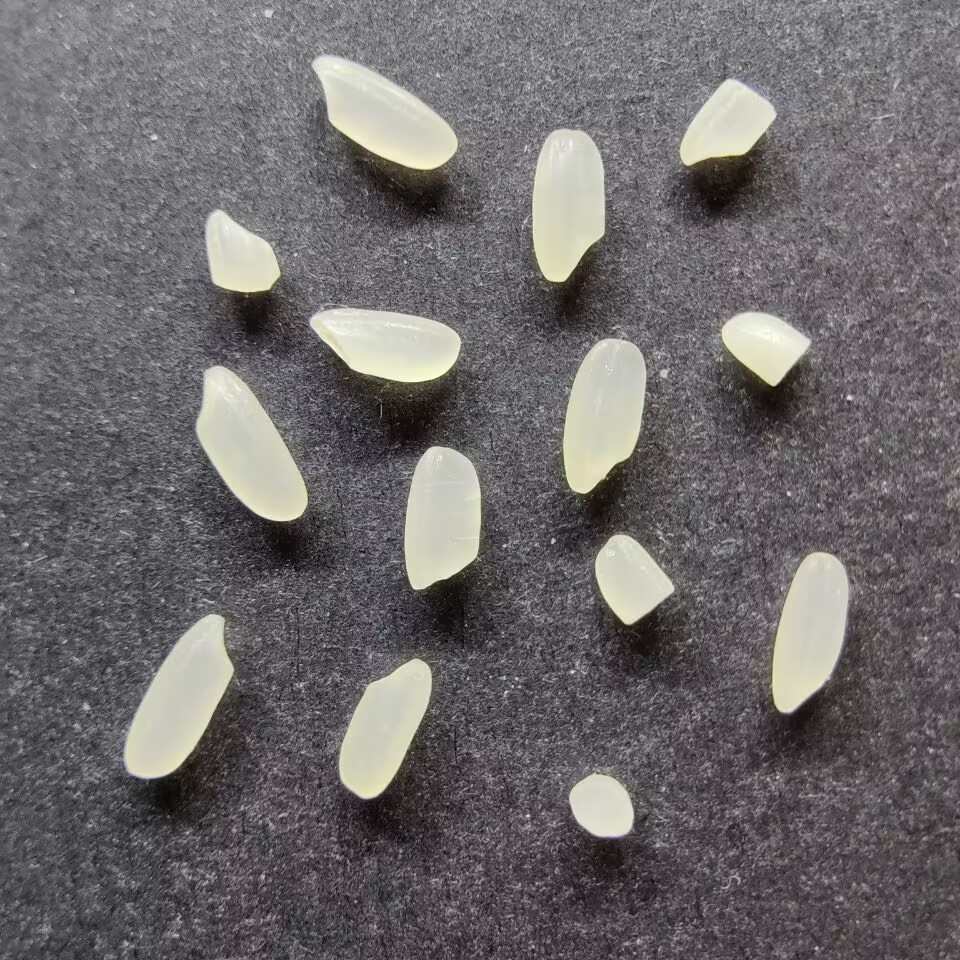broken: (678, 78, 776, 166), (593, 533, 675, 625), (720, 311, 811, 387), (204, 207, 281, 294), (568, 774, 635, 838)
rice: (123, 613, 235, 780), (194, 365, 308, 523), (310, 55, 458, 170), (337, 658, 432, 799), (562, 338, 646, 495), (770, 552, 849, 713), (530, 128, 605, 282), (403, 446, 482, 591), (309, 308, 460, 383)
